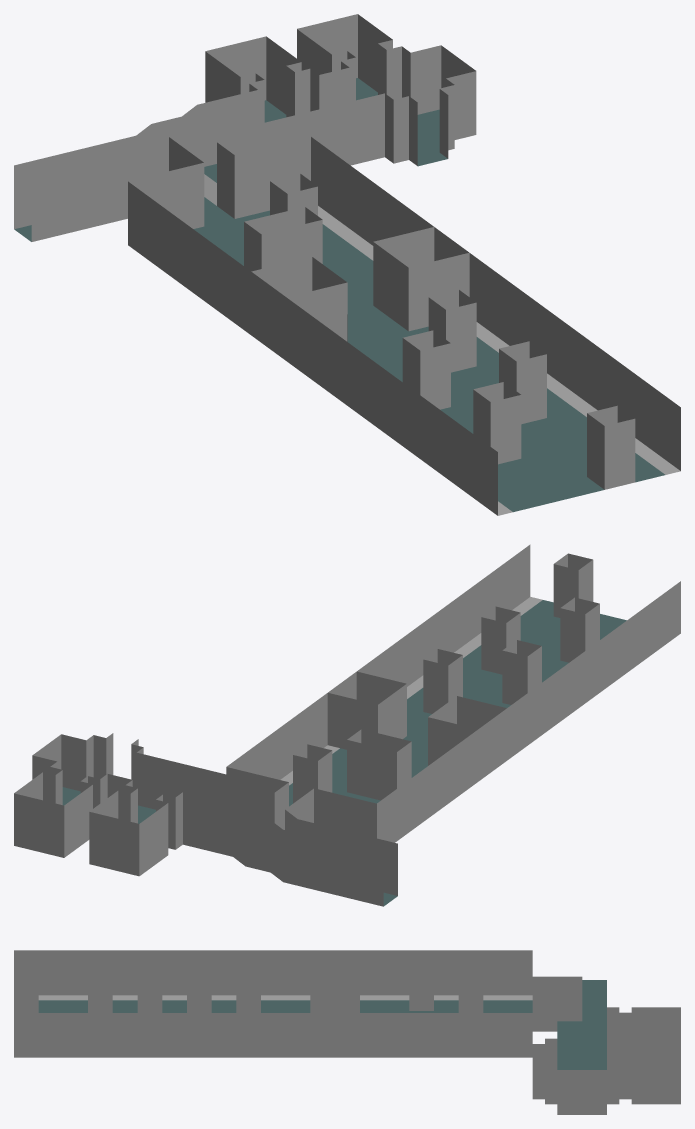
Rendered from levelTest_8x8_170407.fbx.
3 renders of one model, top to bottom at view 1: azimuth 30°, elevation 25°; view 2: azimuth 150°, elevation 25°; view 3: azimuth 270°, elevation 25°, orthographic. The views are drawn at different scales.
Parts seen in each view (by area): view 1: Scale_8x8_wall_flat_geo112, Scale_8x8_wall_flat_geo46, Scale_8x8_wall_flat_geo55, Scale_8x8_wall_flat_geo62, Scale_8x8_wall_flat_geo63, Scale_8x8_wall_flat_geo23, Scale_8x8_wall_flat_geo179, Scale_8x8_wall_flat_geo45, Scale_8x8_wall_flat_geo220, Scale_8x8_wall_flat_geo223, Scale_8x8_wall_flat_geo165, Scale_8x8_wall_flat_geo161 (+42 smaller); view 2: Scale_8x8_wall_flat_geo58, Scale_8x8_wall_flat_geo68, Scale_8x8_wall_flat_geo34, Scale_8x8_wall_flat_geo69, Scale_8x8_wall_flat_geo67, Scale_8x8_wall_flat_geo61, Scale_8x8_wall_flat_geo234, Scale_8x8_wall_flat_geo243, Scale_8x8_wall_flat_geo47, Scale_8x8_wall_flat_geo46, Scale_4x8_stairs_down_geo1, Scale_8x8_wall_flat_geo66 (+43 smaller); view 3: Scale_8x8_wall_flat_geo201, Scale_8x8_wall_flat_geo116, Scale_8x8_wall_flat_geo146, Scale_8x8_wall_flat_geo140, Scale_8x8_wall_flat_geo207, Scale_8x8_wall_flat_geo96, Scale_8x8_wall_flat_geo94, Scale_8x8_wall_flat_geo142, Scale_8x8_wall_flat_geo120, Scale_8x8_wall_flat_geo197, Scale_8x8_wall_flat_geo205, Scale_8x8_wall_flat_geo51 (+112 smaller).
Part boxes in pixels (left/top/right/bottom): Scale_8x8_wall_flat_geo112: left=261, top=227, right=292, bottom=266; Scale_8x8_wall_flat_geo46: left=173, top=162, right=204, bottom=201; Scale_8x8_wall_flat_geo55: left=410, top=45, right=441, bottom=84; Scale_8x8_wall_flat_geo62: left=92, top=188, right=123, bottom=226; Scale_8x8_wall_flat_geo63: left=92, top=156, right=123, bottom=195; Scale_8x8_wall_flat_geo23: left=234, top=180, right=265, bottom=218; Scale_8x8_wall_flat_geo179: left=604, top=418, right=635, bottom=457; Scale_8x8_wall_flat_geo45: left=234, top=148, right=265, bottom=186; Scale_8x8_wall_flat_geo220: left=604, top=450, right=635, bottom=489; Scale_8x8_wall_flat_geo223: left=490, top=395, right=521, bottom=433; Scale_8x8_wall_flat_geo165: left=281, top=257, right=312, bottom=295; Scale_8x8_wall_flat_geo161: left=403, top=227, right=434, bottom=265; Scale_8x8_wall_flat_geo58: left=283, top=856, right=308, bottom=888; Scale_8x8_wall_flat_geo68: left=358, top=848, right=383, bottom=880; Scale_8x8_wall_flat_geo34: left=136, top=752, right=161, bottom=784; Scale_8x8_wall_flat_geo69: left=358, top=874, right=383, bottom=906; Scale_8x8_wall_flat_geo67: left=333, top=868, right=358, bottom=900; Scale_8x8_wall_flat_geo61: left=283, top=830, right=308, bottom=861; Scale_8x8_wall_flat_geo234: left=502, top=650, right=527, bottom=682; Scale_8x8_wall_flat_geo243: left=26, top=796, right=51, bottom=828; Scale_8x8_wall_flat_geo47: left=339, top=794, right=364, bottom=826; Scale_8x8_wall_flat_geo46: left=314, top=788, right=339, bottom=820; Scale_4x8_stairs_down_geo1: left=233, top=783, right=274, bottom=839; Scale_8x8_wall_flat_geo66: left=333, top=842, right=358, bottom=873; Scale_8x8_wall_flat_geo201: left=112, top=972, right=137, bottom=995; Scale_8x8_wall_flat_geo116: left=384, top=972, right=409, bottom=995; Scale_8x8_wall_flat_geo146: left=211, top=972, right=236, bottom=995; Scale_8x8_wall_flat_geo140: left=285, top=972, right=310, bottom=995; Scale_8x8_wall_flat_geo207: left=38, top=972, right=63, bottom=995; Scale_8x8_wall_flat_geo96: left=434, top=972, right=458, bottom=995; Scale_8x8_wall_flat_geo94: left=483, top=972, right=507, bottom=995; Scale_8x8_wall_flat_geo142: left=261, top=972, right=285, bottom=995; Scale_8x8_wall_flat_geo120: left=360, top=972, right=384, bottom=995; Scale_8x8_wall_flat_geo197: left=162, top=972, right=186, bottom=995; Scale_8x8_wall_flat_geo205: left=63, top=972, right=87, bottom=995; Scale_8x8_wall_flat_geo51: left=557, top=1092, right=582, bottom=1114.
Size of the model in its own units: 112 by 20 by 216.
